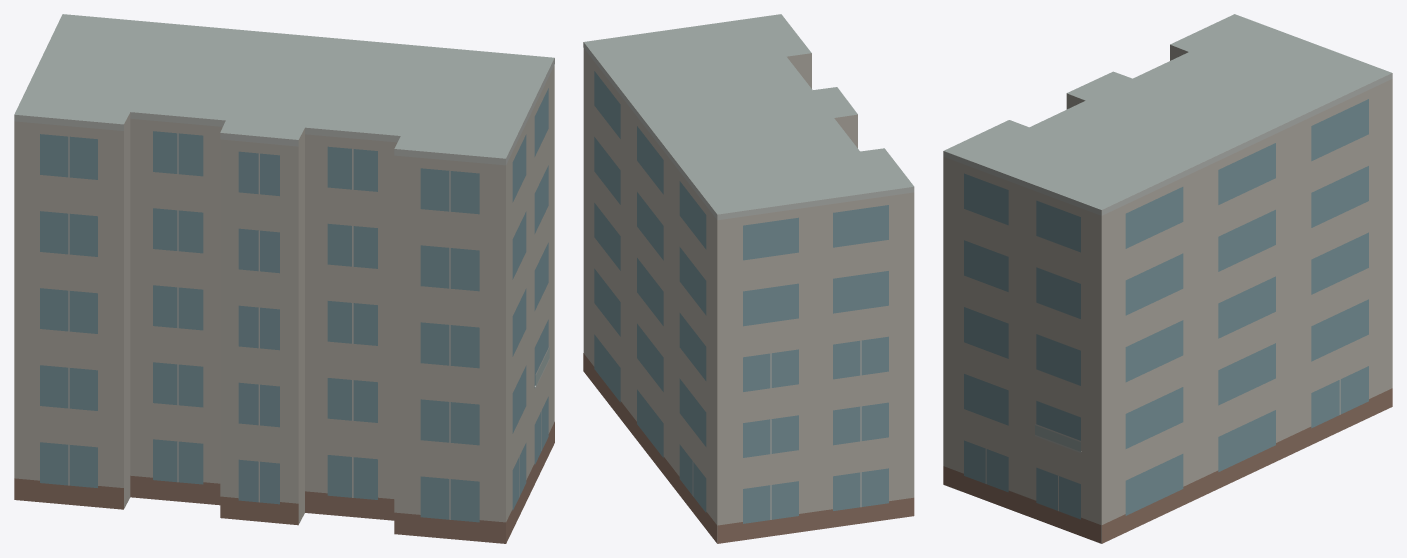
The model's file is survey-upis-32526439.glb.
3 views of the same model, side by side, from view 1: azimuth 30°, elevation 25°; view 2: azimuth 150°, elevation 25°; view 3: azimuth 270°, elevation 25° (orthographic). The views are drawn at different scales.
Visible parts, largest first — view 1: survey-upis-32526439.tmp; view 2: survey-upis-32526439.tmp; view 3: survey-upis-32526439.tmp.
Part boxes in pixels (left/top/right/bottom): survey-upis-32526439.tmp: left=14, top=14, right=554, bottom=543; survey-upis-32526439.tmp: left=583, top=14, right=914, bottom=543; survey-upis-32526439.tmp: left=943, top=14, right=1392, bottom=543.
Bounding box in the file's own units: 17.78 × 14.1 × 17.2.
